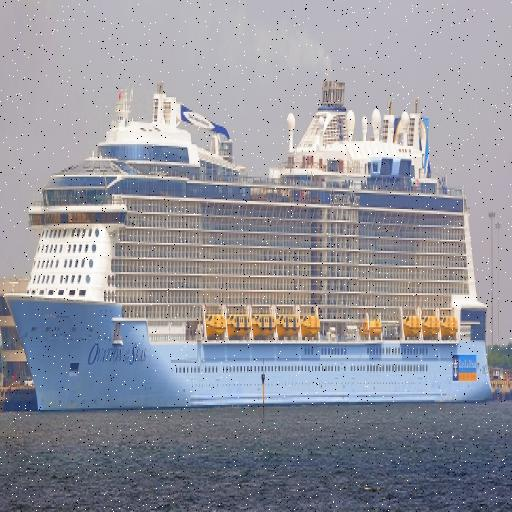cruises: (3, 67, 497, 411)
